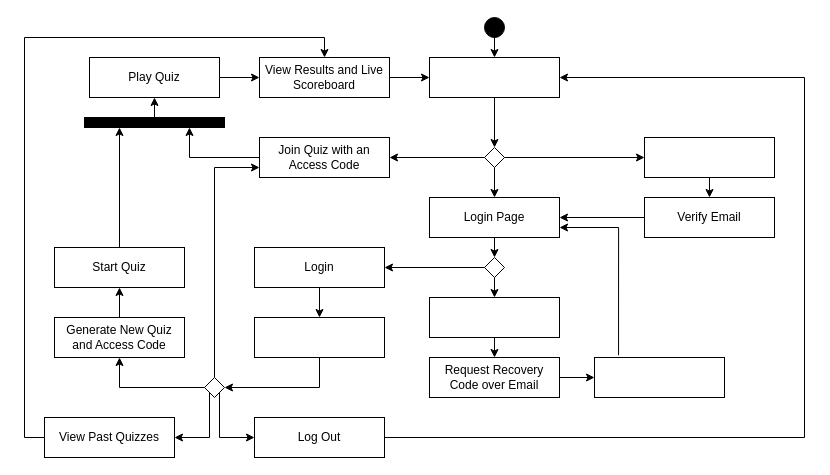
Image size: 830x475. Some labels were removed from this diagram. Each missing label, with the centre of its shape:
Enter Recovery Code and New Password: (659,377)
Forgot Password: (494,317)
Landing: (494,77)
Register: (709,157)
User Homepage: (319,337)
